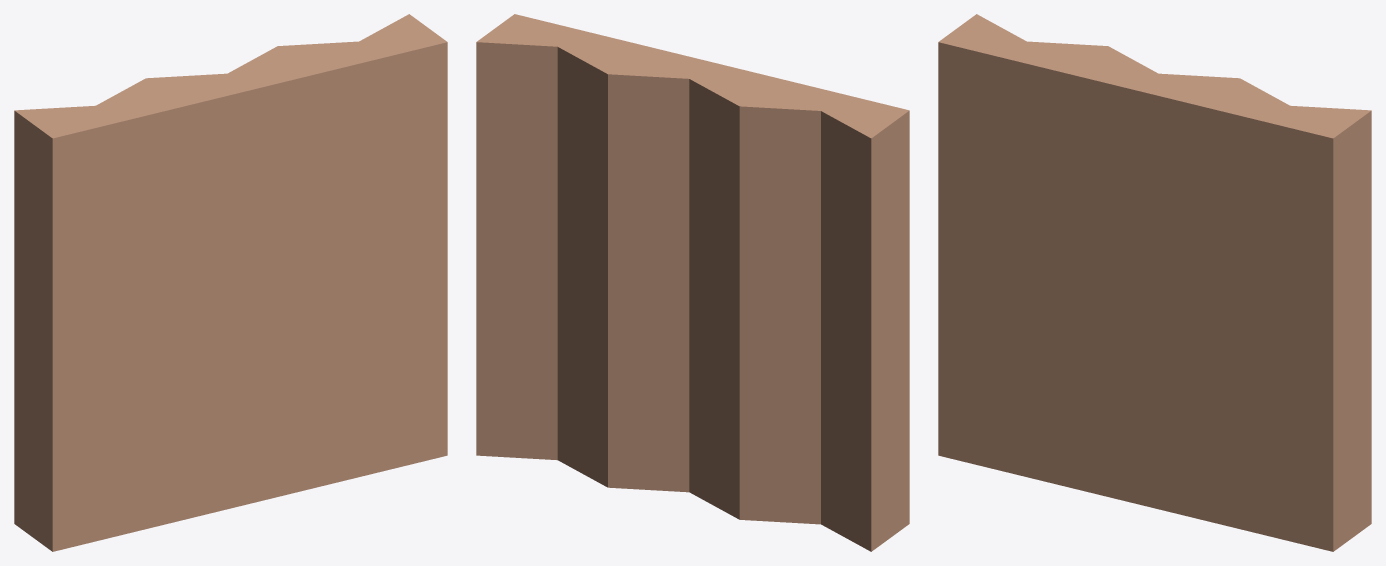
The model's file is cliff_rock.glb.
3 renders of one model, left to right at view 1: azimuth 30°, elevation 25°; view 2: azimuth 150°, elevation 25°; view 3: azimuth 330°, elevation 25°, orthographic.
Parts seen in each view (by area): view 1: cliff_rock; view 2: cliff_rock; view 3: cliff_rock.
Part boxes in pixels (<box>): cliff_rock: <box>14,14,447,551</box>; cliff_rock: <box>476,14,909,551</box>; cliff_rock: <box>938,14,1371,551</box>.
Size of the model in its own units: 1 by 1 by 0.1685.
